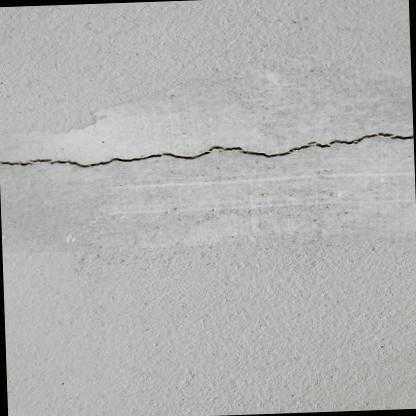crack: (0, 133, 414, 168)
